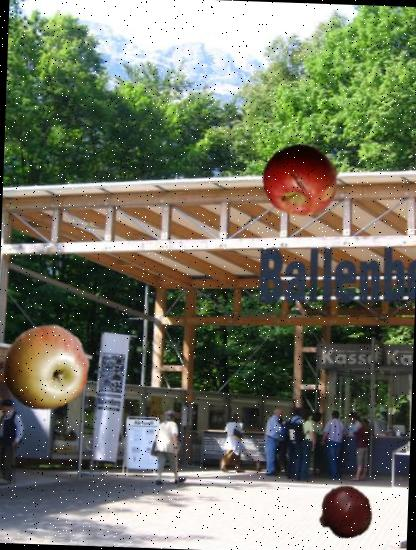Apple: (0, 323, 91, 414), (261, 141, 341, 220)
Pomegranate: (317, 485, 374, 542)
